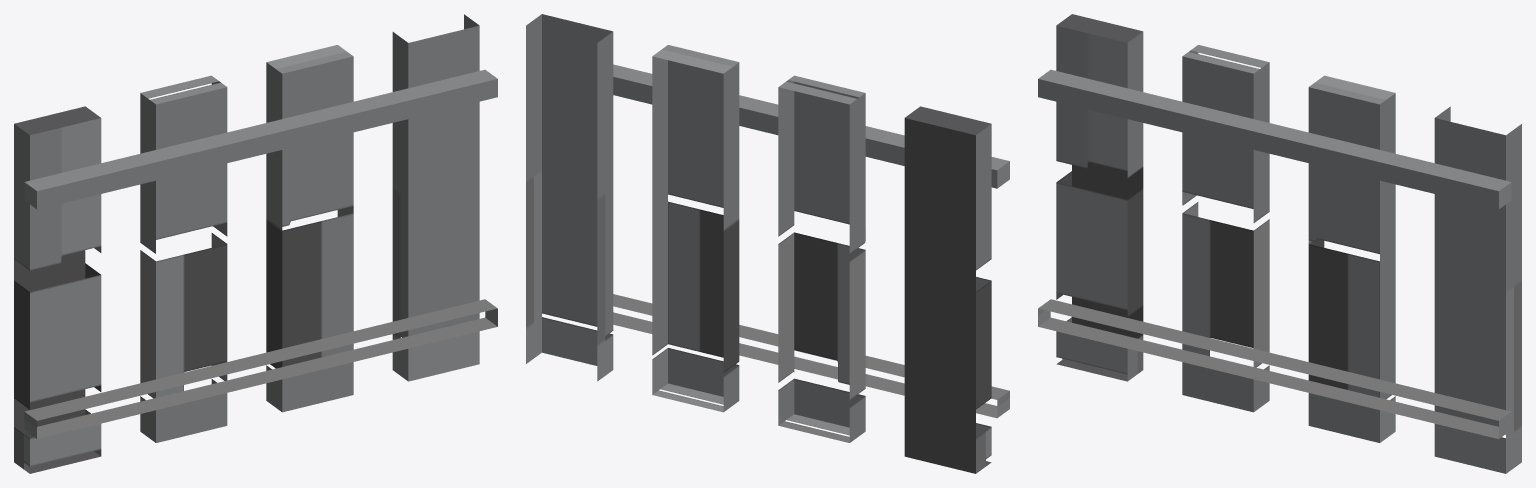
3 renders of one model, left to right at view 1: azimuth 30°, elevation 25°; view 2: azimuth 150°, elevation 25°; view 3: azimuth 330°, elevation 25°, orthographic.
Size of the model in its own units: 0.84 by 0.59 by 0.09.
